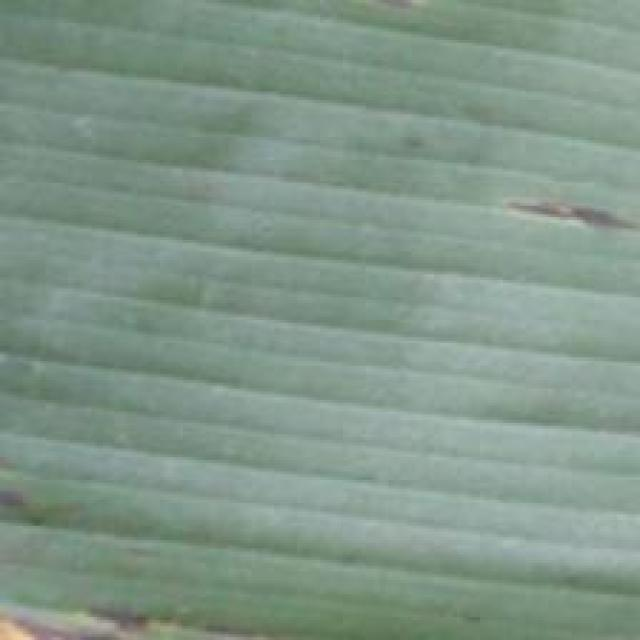Early_leaf_spot: (0, 565, 293, 640), (487, 165, 638, 259), (0, 461, 66, 555)
